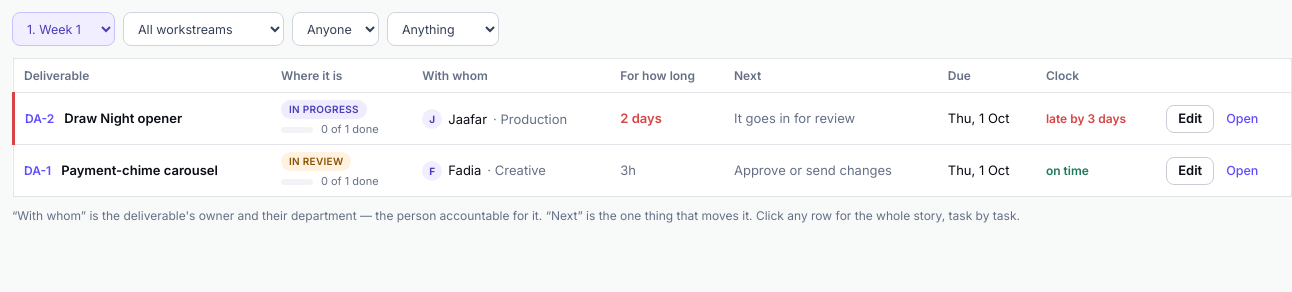
Scenario: WhereIsEverything — CG-03 (I57.10) › filters by workstream, owner and where it is; an empty result says so in one line
The image size is (1292, 292).
Select "All phases" in the dropdown with test id "where-filter-phase" at (64, 29), box [12,12,115,46]
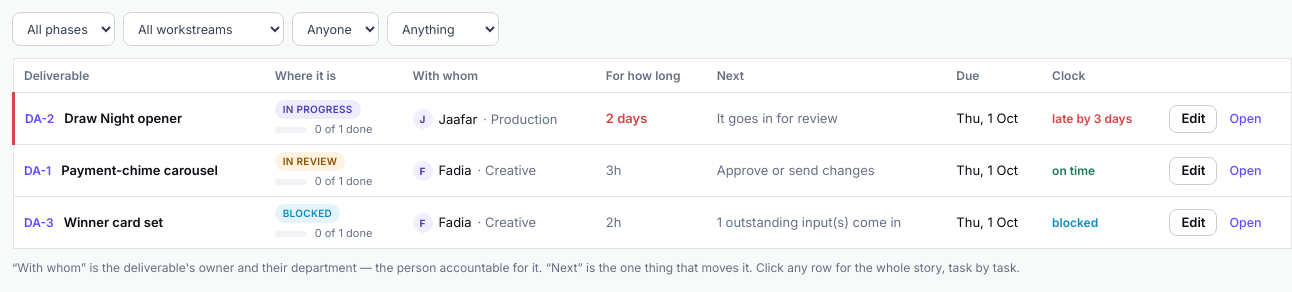
Select "Not in a workstream" in the dropdown with test id "where-filter-workstream" at (204, 29), box [123,12,284,46]
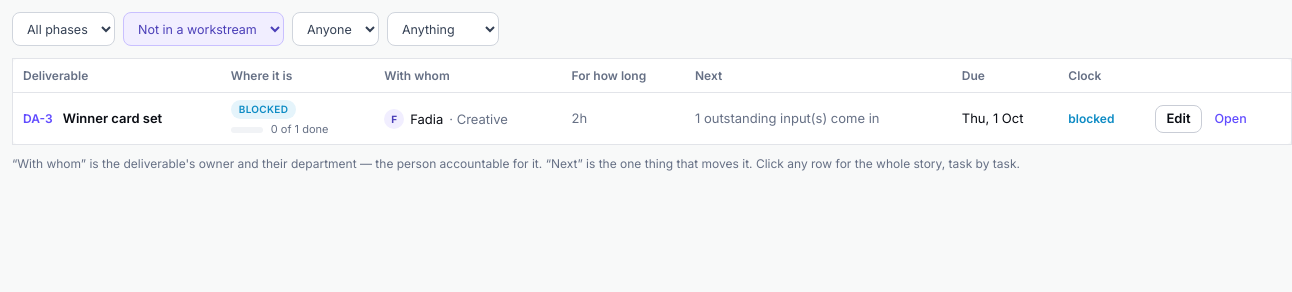
Select "All workstreams" in the dropdown with test id "where-filter-workstream" at (204, 29), box [123,12,284,46]
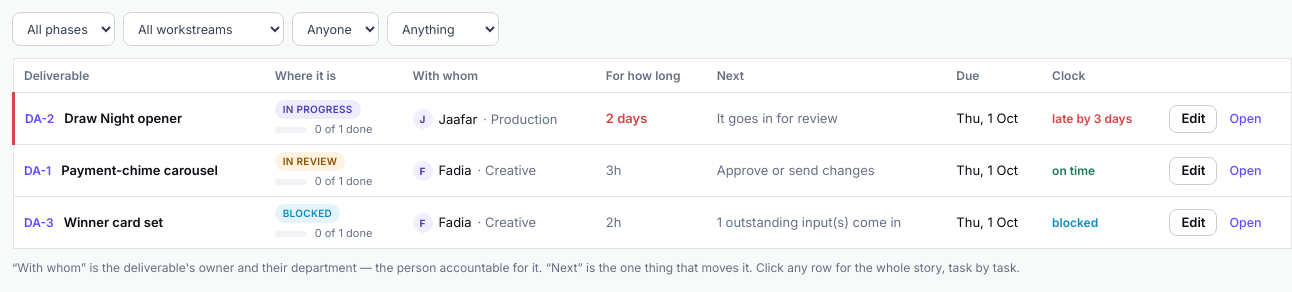
Select "Jaafar" in the dropdown with test id "where-filter-owner" at (336, 29), box [292,12,379,46]
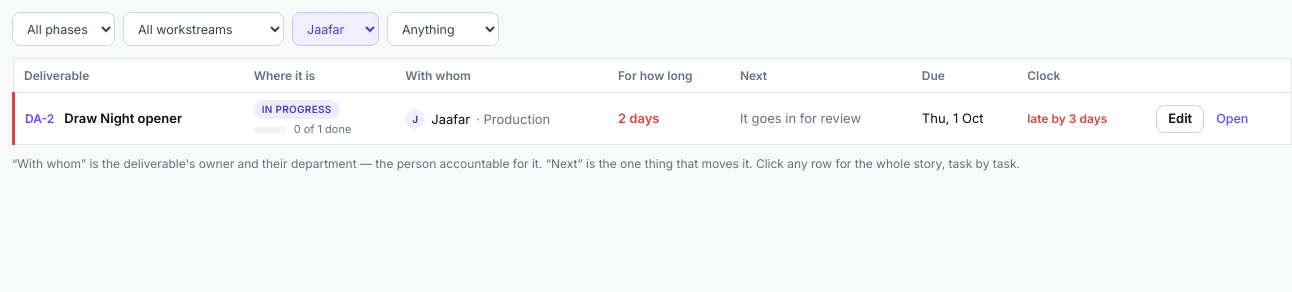
Select "Delivered" in the dropdown with test id "where-filter-status" at (443, 29), box [387,12,499,46]
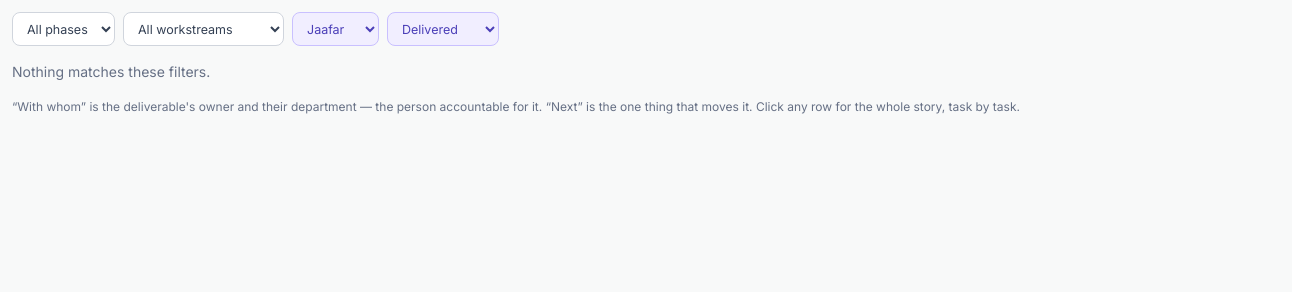
Result: the text with test id "where-empty" reads "Nothing matches these filters." at [12,63,210,80]
